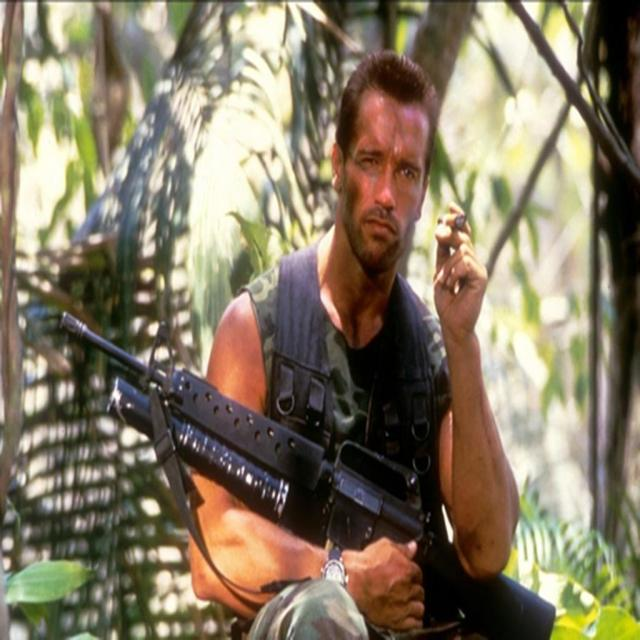smoking: (323, 37, 490, 337)
